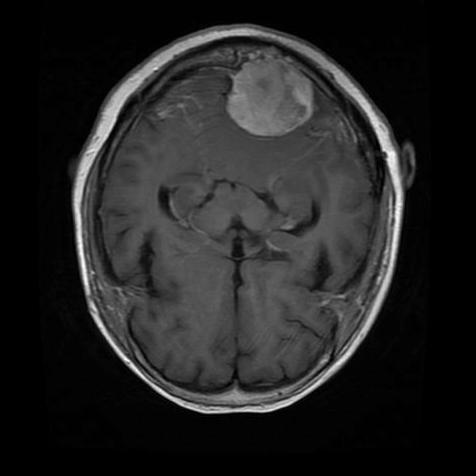Tumour-Meningioma: (190, 60, 322, 153)
